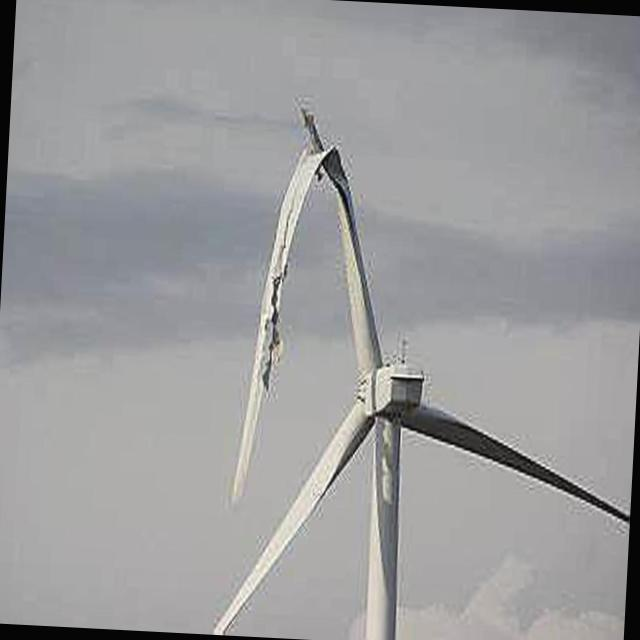crack: (236, 109, 375, 469)
